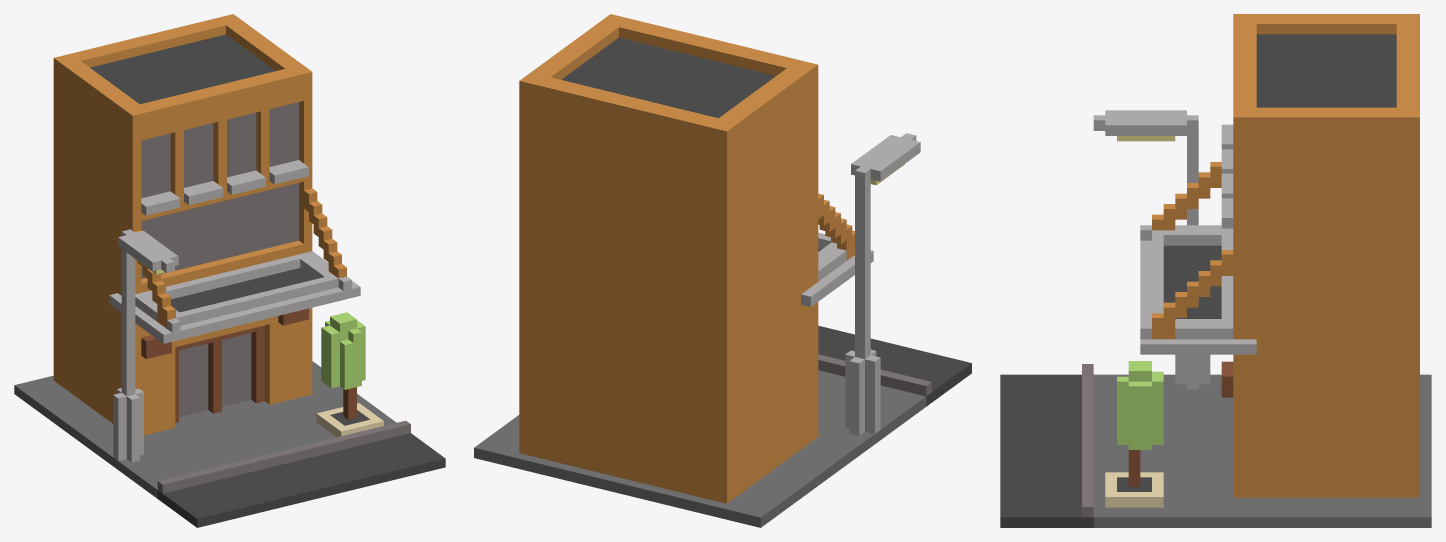
The model's file is house1.obj.
3 views of the same model, side by side, from view 1: azimuth 30°, elevation 25°; view 2: azimuth 150°, elevation 25°; view 3: azimuth 270°, elevation 25° (orthographic). The views are drawn at different scales.
Bounding box in the file's own units: 2.9 × 3.7 × 3.7.
1 material, 1 textured.
